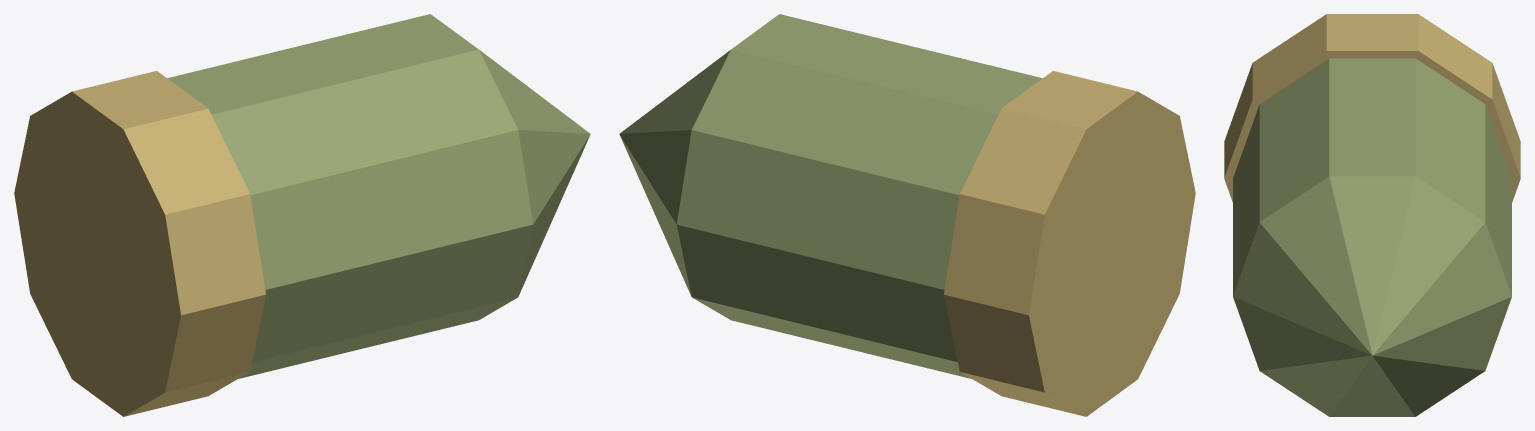
The model's file is projectile_grenade.glb.
The picture shows the model from 3 angles, left to right: view 1: azimuth 30°, elevation 25°; view 2: azimuth 150°, elevation 25°; view 3: azimuth 270°, elevation 25°; orthographic projection. The views are drawn at different scales.
Parts seen in each view (by area): view 1: Grenade, accent_GrenadeBand; view 2: Grenade, accent_GrenadeBand; view 3: Grenade, accent_GrenadeBand.
Boxes of the visible parts, left/top/right/bottom form: Grenade: left=167, top=14, right=590, bottom=378; accent_GrenadeBand: left=14, top=71, right=265, bottom=416; Grenade: left=619, top=14, right=1042, bottom=378; accent_GrenadeBand: left=944, top=71, right=1195, bottom=416; Grenade: left=1233, top=58, right=1511, bottom=416; accent_GrenadeBand: left=1224, top=14, right=1520, bottom=202.
Bounding box in the file's own units: 0.58 × 0.3234 × 0.34.
